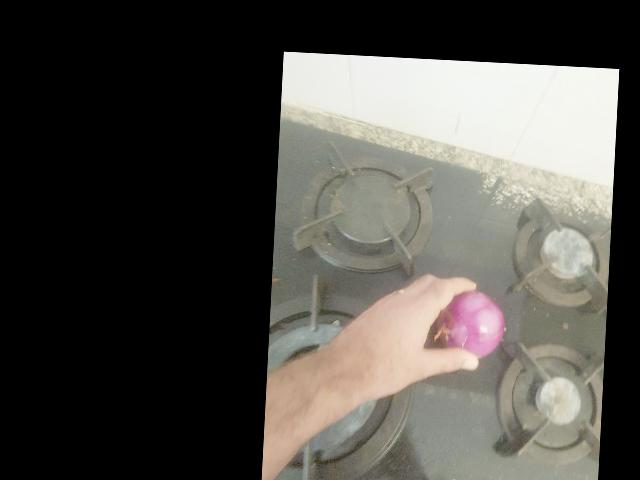onion: (508, 166, 573, 232)
